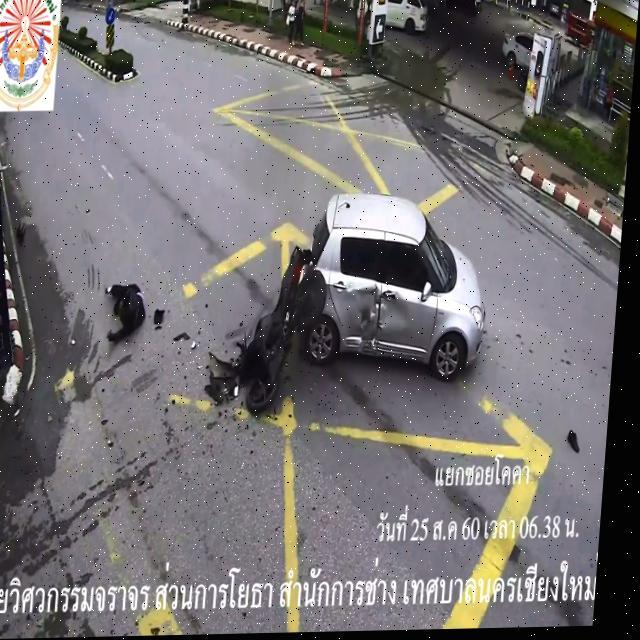multiple_accident: (96, 146, 571, 470)
